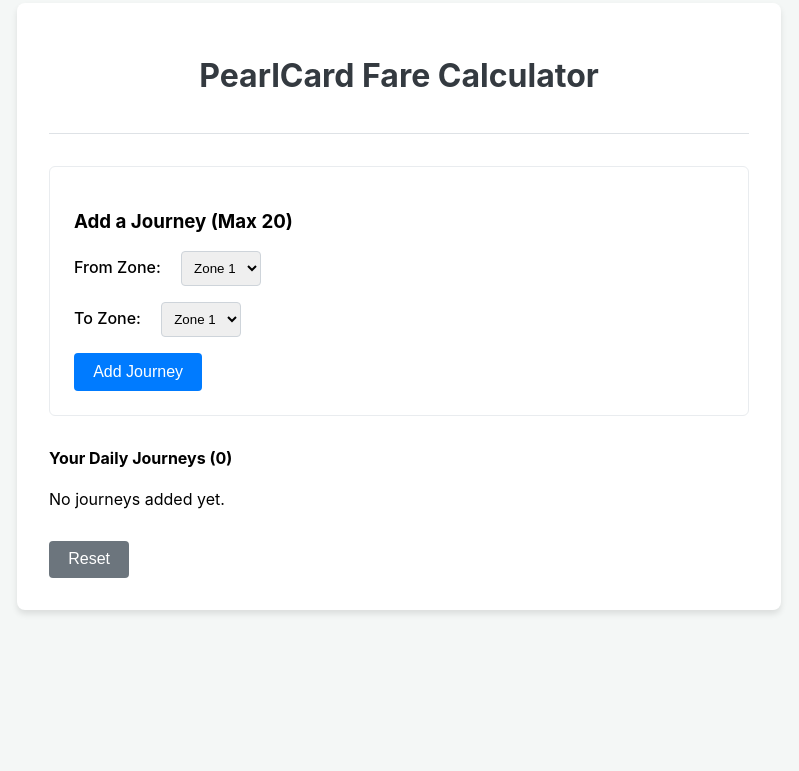
Test: App Component › should display an error if adding a fare fails, without affecting existing journeys
Select "Zone 1" in the dropdown labelled "From Zone:" at [221, 269], box [181,251,261,286]
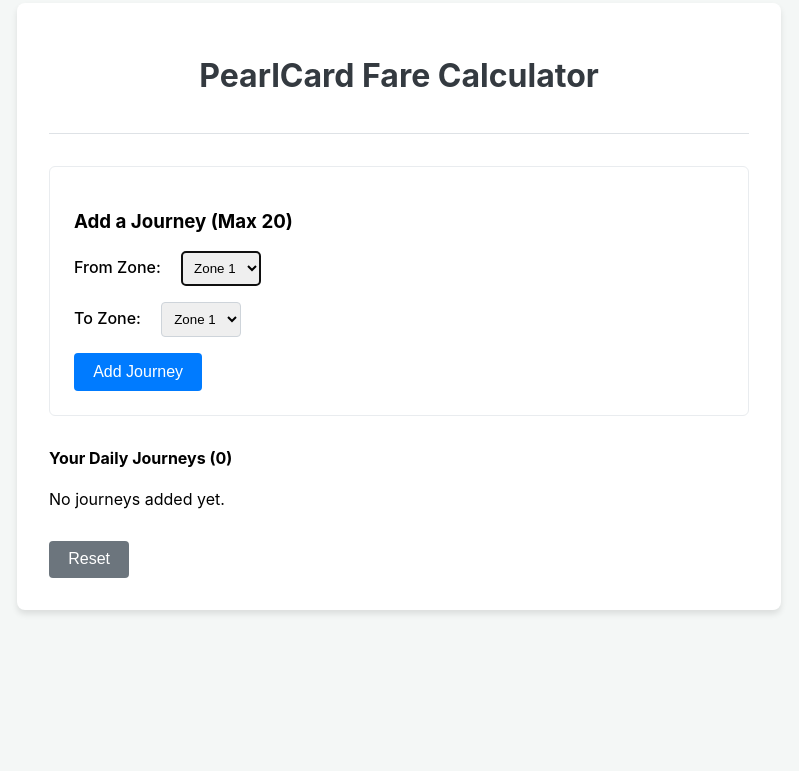
Click the button "Add Journey" at [138, 372], box [74,353,202,390]
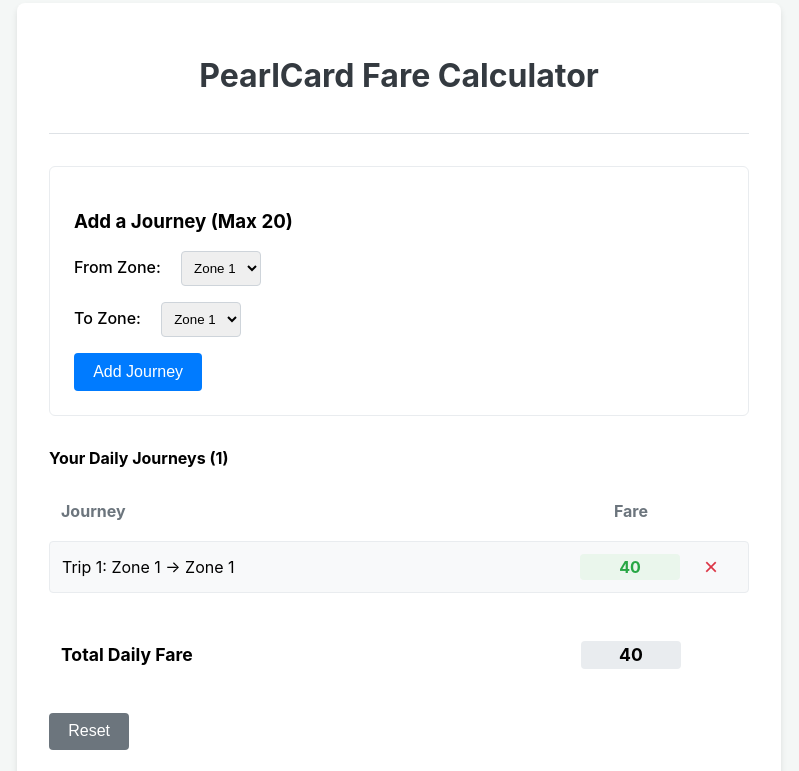
Result: the text "Trip 1: Zone 1 → Zone 1" is shown at [62,557,234,577]
Select "Zone 2" in the dropdown labelled "From Zone:" at [221, 269], box [181,251,261,286]
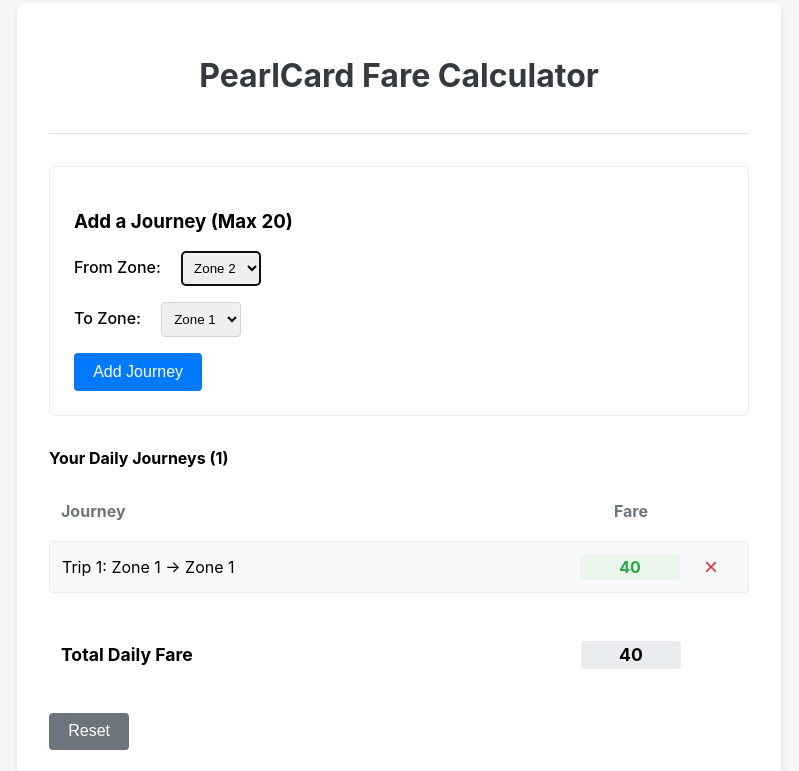
Click the button "Add Journey" at [138, 372], box [74,353,202,390]
(page scrolled)
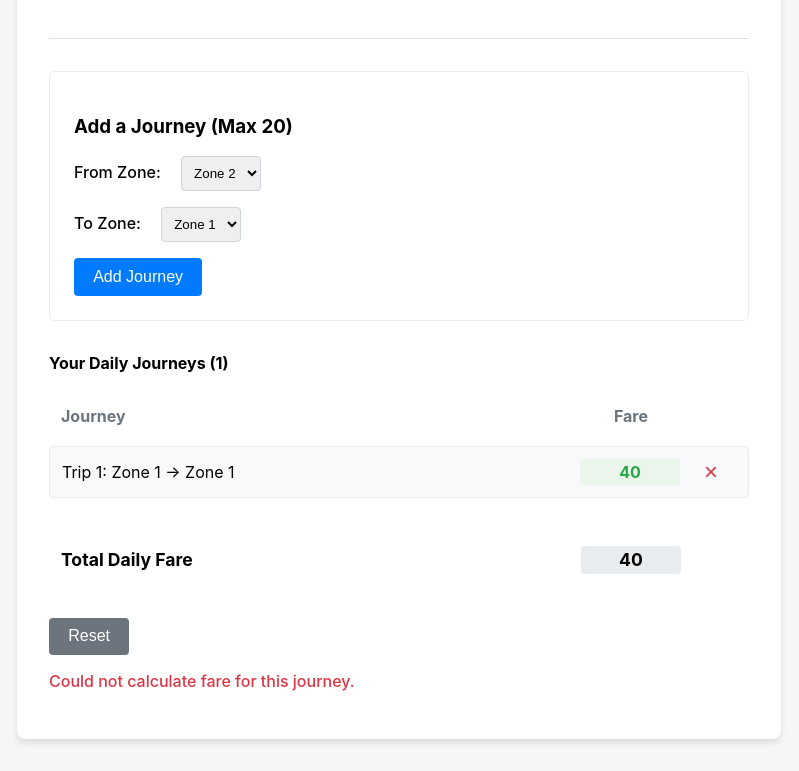
Result: the text "Could not calculate fare for this journey." is shown at [49,671,355,691]
